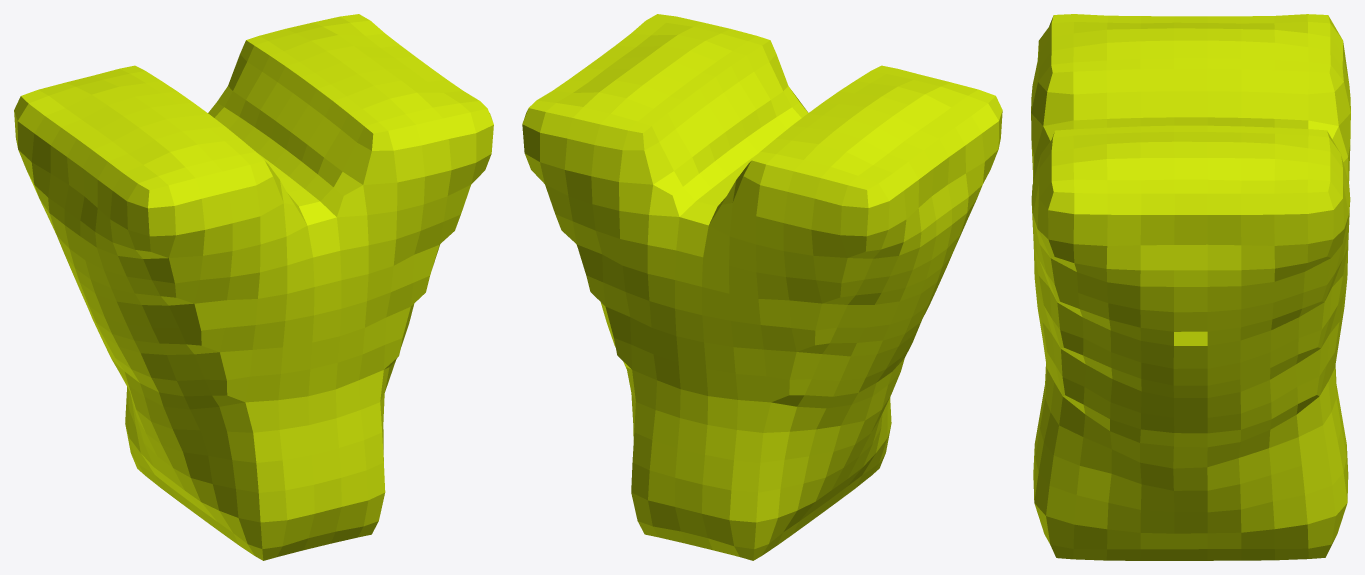
The model's file is oyo_y.glb.
3 renders of one model, left to right at view 1: azimuth 30°, elevation 25°; view 2: azimuth 150°, elevation 25°; view 3: azimuth 270°, elevation 25°, orthographic. The views are drawn at different scales.
Visible parts, largest first — view 1: Text.002; view 2: Text.002; view 3: Text.002.
Boxes of the visible parts, x1,y1,x2,y2 form: Text.002: (14,14,493,560); Text.002: (522,14,1002,560); Text.002: (1031,14,1350,560).
Size of the model in its own units: 1.21 by 1.33 by 0.86.
